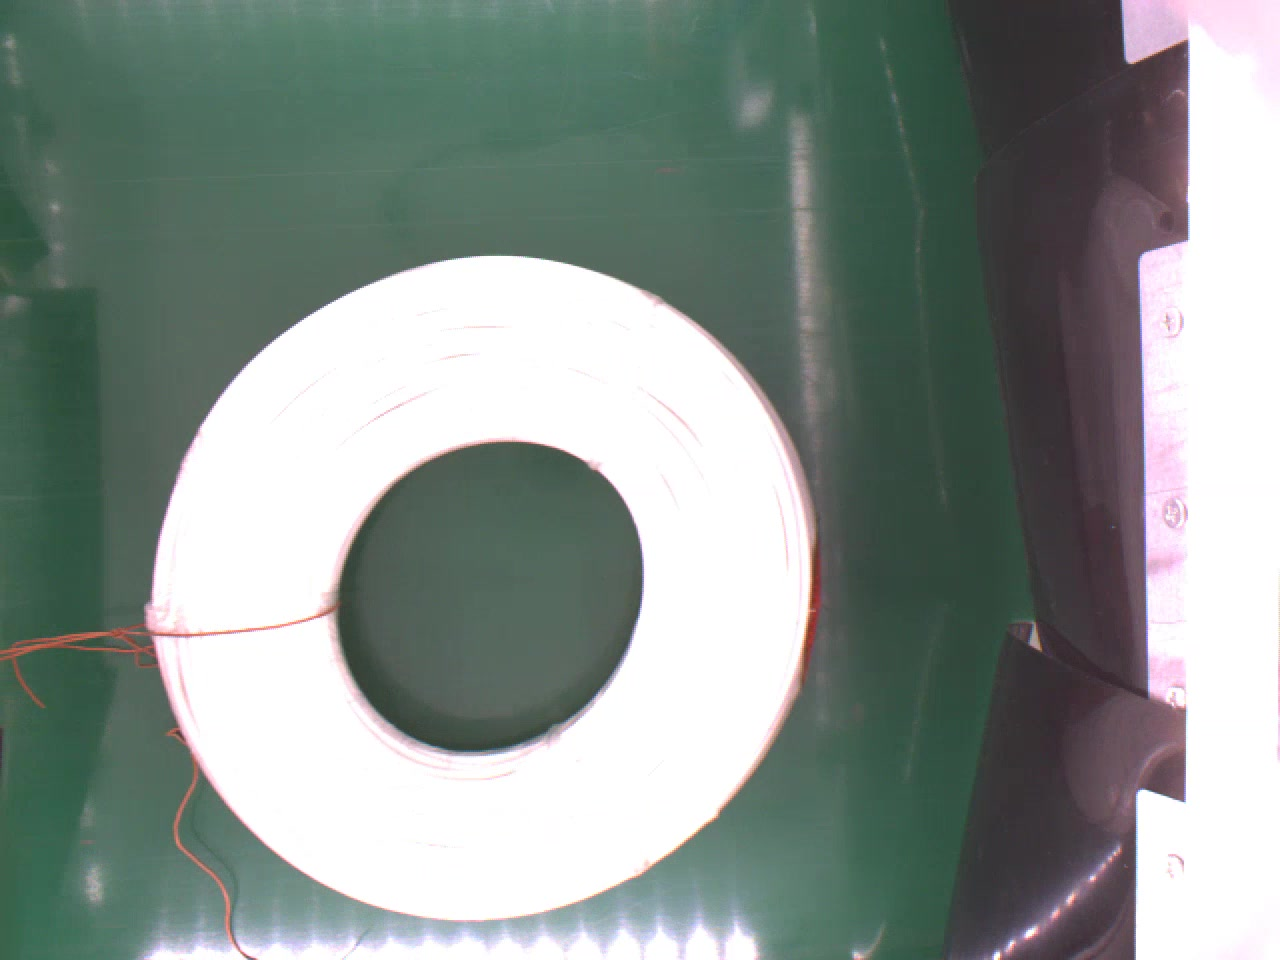white: (143, 246, 829, 923)
